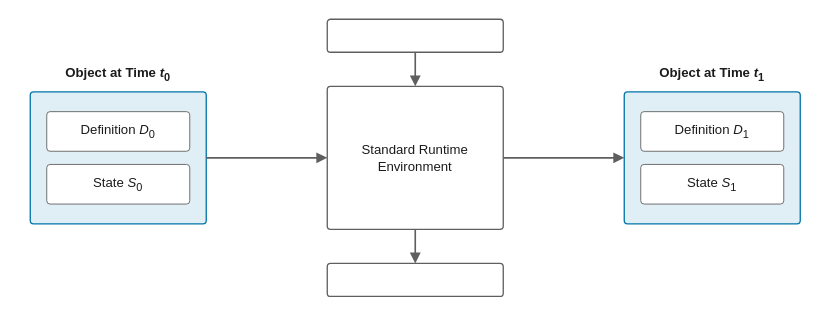
The diagram is 829 pixels wide and 317 high, and some of its shapes have lost their labels. Here are the shapes that lost their labels. From the top down, the box of each, then its label:
(326, 18, 503, 52): Input Arguments
(326, 262, 503, 297): Return Output
